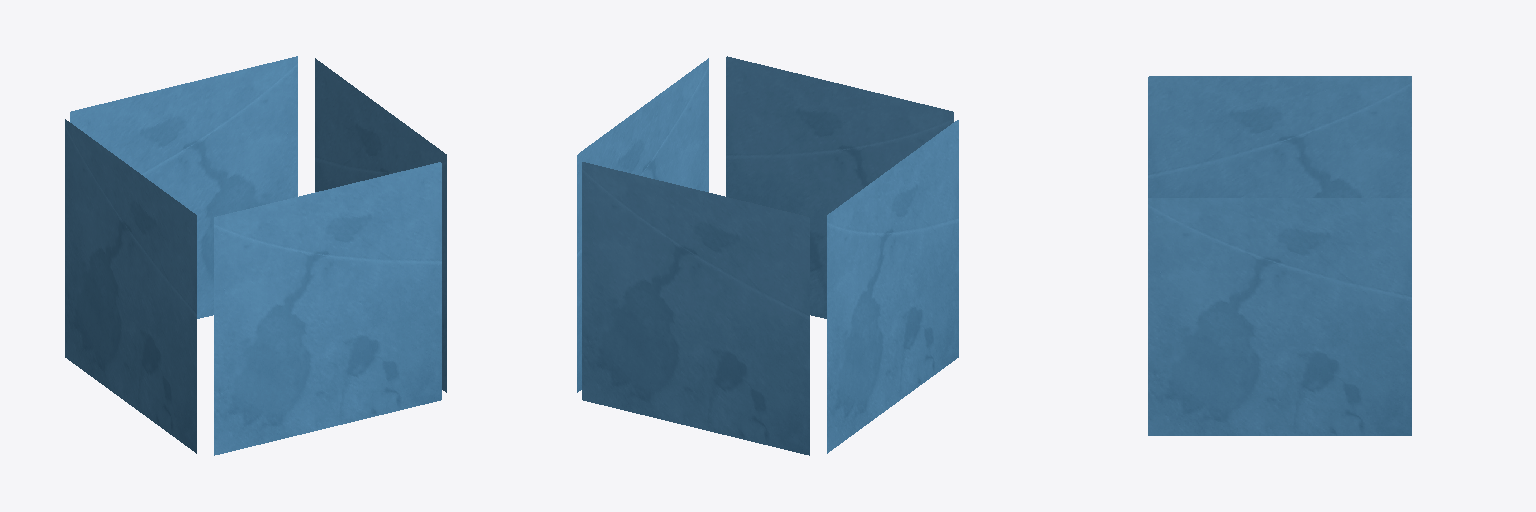
3 views of the same model, side by side, from view 1: azimuth 30°, elevation 25°; view 2: azimuth 150°, elevation 25°; view 3: azimuth 270°, elevation 25° (orthographic).
Parts seen in each view (by area): view 1: Mesh1 initialShadingGroup1 polySurface2 polySurface6; view 2: Mesh1 initialShadingGroup1 polySurface2 polySurface6; view 3: Mesh1 initialShadingGroup1 polySurface2 polySurface6.
Boxes of the visible parts, <box> form: Mesh1 initialShadingGroup1 polySurface2 polySurface6: <box>65,56,446,455</box>; Mesh1 initialShadingGroup1 polySurface2 polySurface6: <box>577,56,958,455</box>; Mesh1 initialShadingGroup1 polySurface2 polySurface6: <box>1148,76,1411,435</box>.
Size of the model in its own units: 1.89 by 1.72 by 1.89.
Materials: 1 (1 with a texture image).